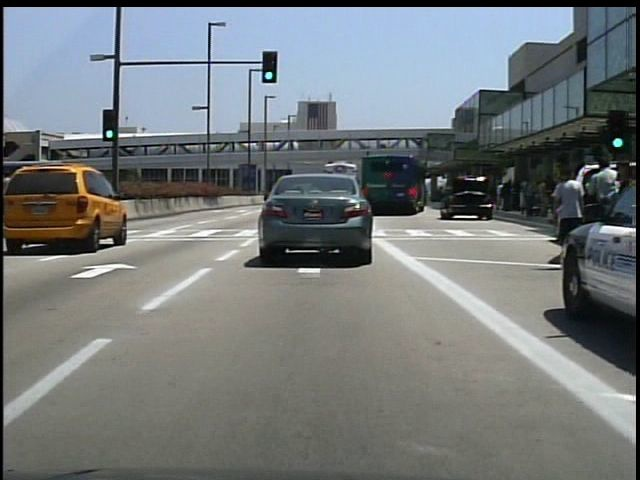person: (586, 152, 627, 281), (547, 160, 588, 270), (14, 165, 33, 230), (35, 168, 57, 222)
